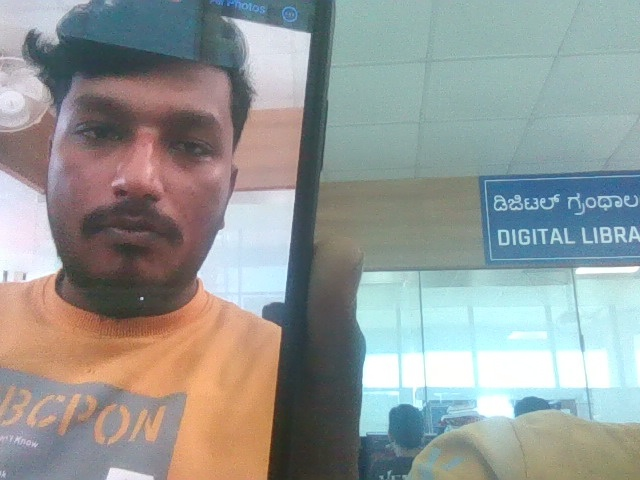fake: (14, 0, 262, 351)
